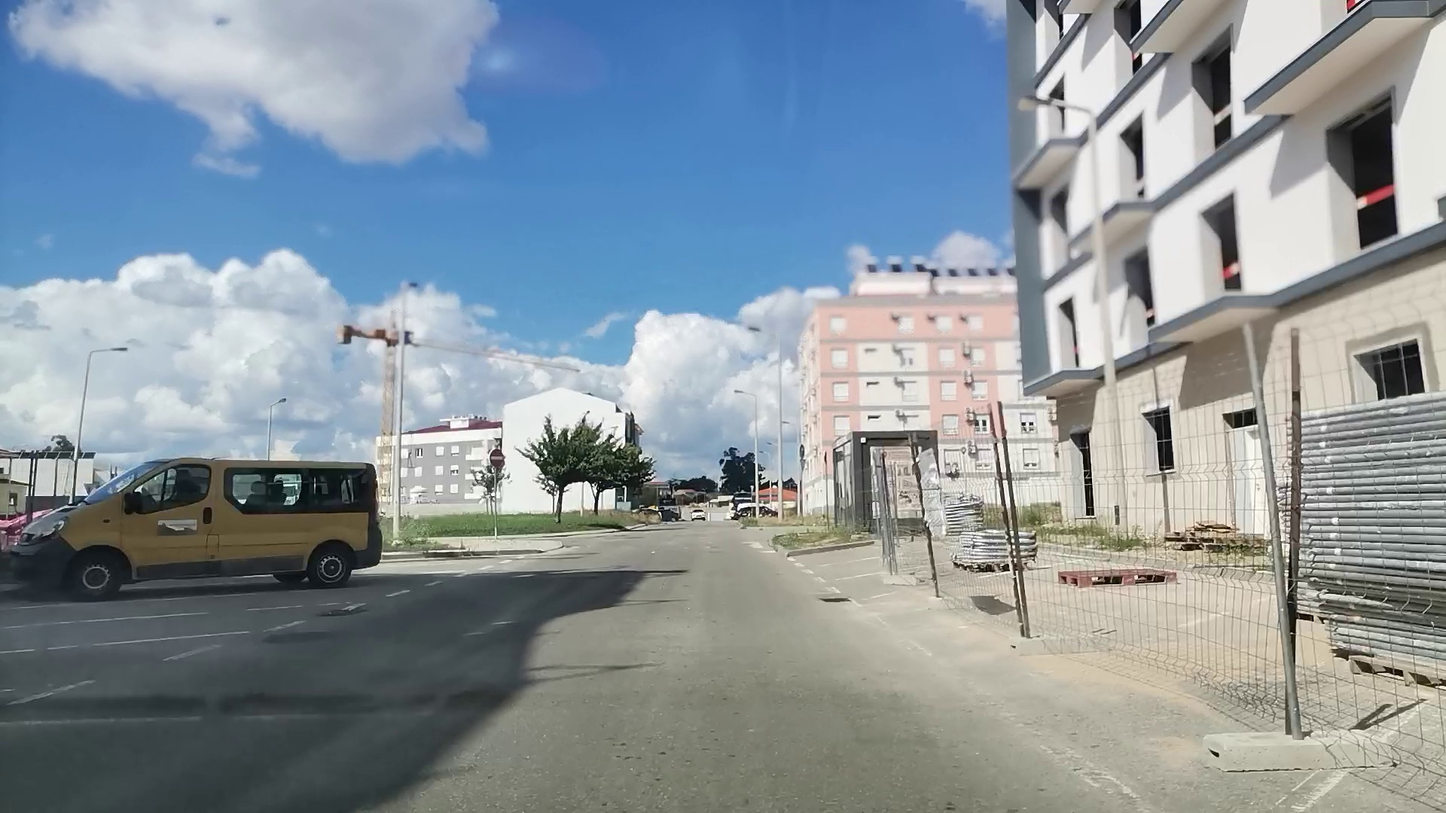Stairs: (537, 541, 771, 556)
